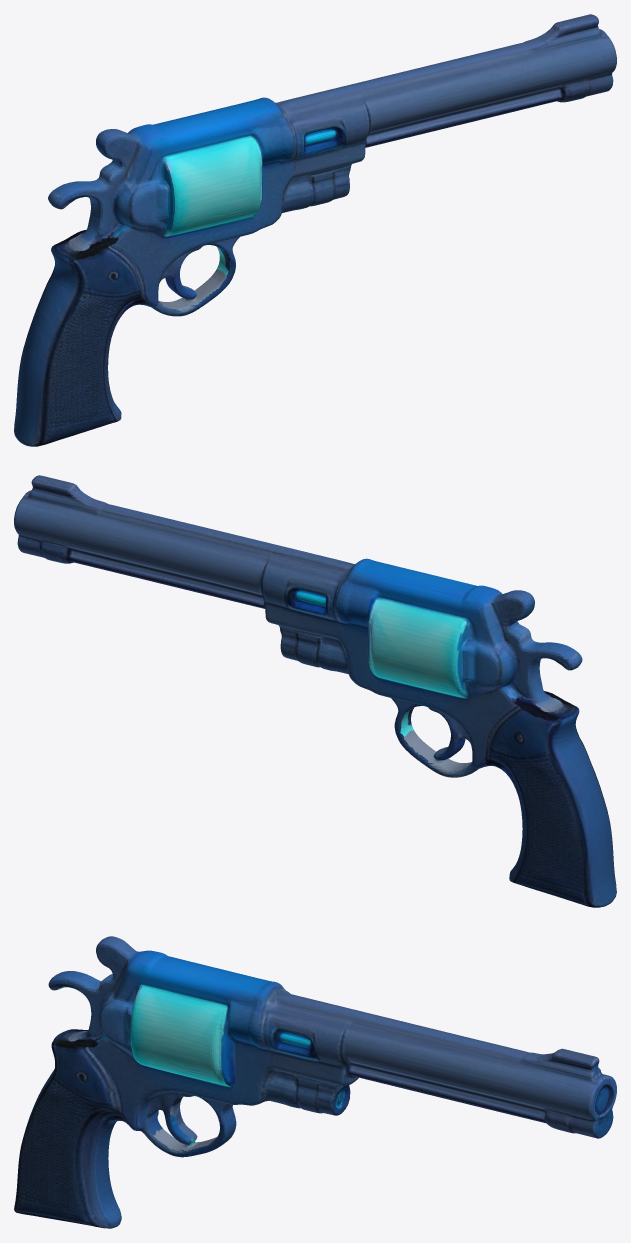
Rendered from greesel_weapon.glb.
3 views of the same model, one above another, from view 1: azimuth 30°, elevation 25°; view 2: azimuth 150°, elevation 25°; view 3: azimuth 330°, elevation 25° (orthographic).
Visible parts, largest first — view 1: tmp5xxh_dl6.ply; view 2: tmp5xxh_dl6.ply; view 3: tmp5xxh_dl6.ply.
Boxes of the visible parts, x1,y1,x2,y2 form: tmp5xxh_dl6.ply: (14,14,616,446); tmp5xxh_dl6.ply: (14,475,616,907); tmp5xxh_dl6.ply: (14,936,616,1228).
Bounding box in the file's own units: 1.99 × 0.9438 × 0.2757.
Materials: 1 (1 with a texture image).
